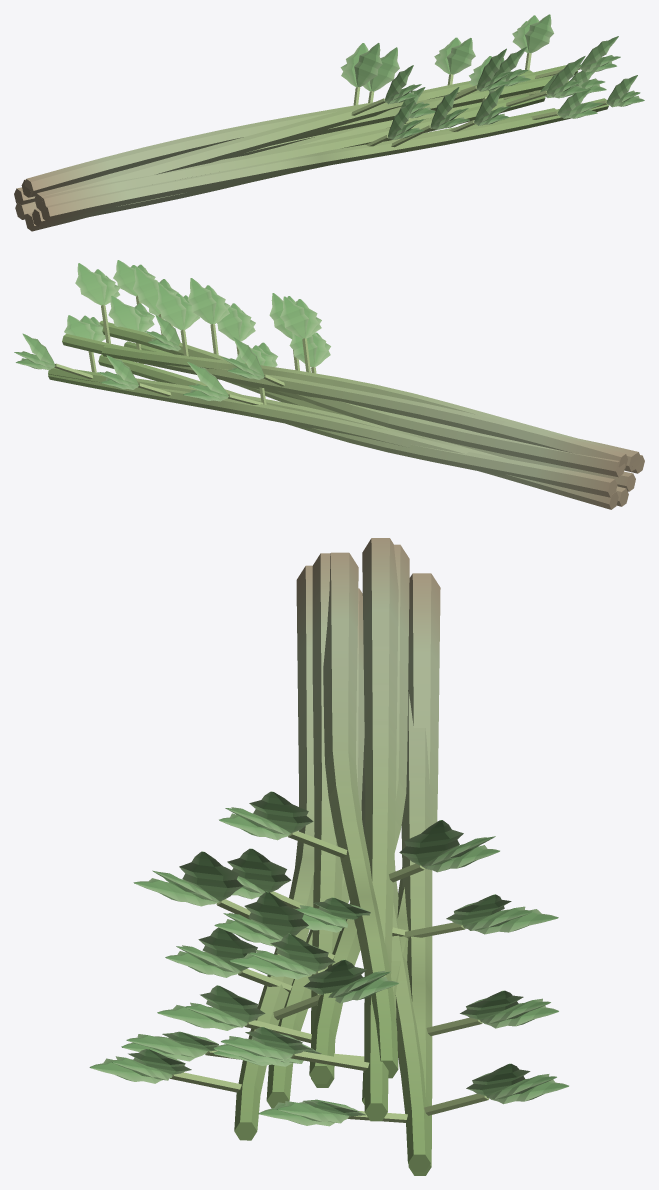
File: water.glb
3 renders of one model, top to bottom at view 1: azimuth 30°, elevation 25°; view 2: azimuth 150°, elevation 25°; view 3: azimuth 270°, elevation 25°, orthographic. The views are drawn at different scales.
Parts seen in each view (by area): view 1: water; view 2: water; view 3: water.
Boxes of the visible parts, left/top/right/bottom form: water: left=14, top=14, right=644, bottom=231; water: left=14, top=260, right=644, bottom=509; water: left=89, top=538, right=568, bottom=1175.
Size of the model in its own units: 2.24 by 0.3792 by 0.8307.
